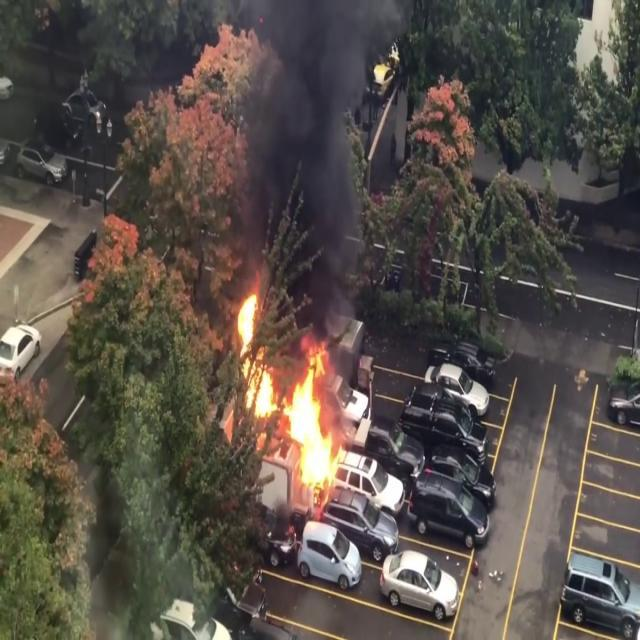Fire: (225, 282, 354, 498)
Smoke: (232, 0, 390, 310)
